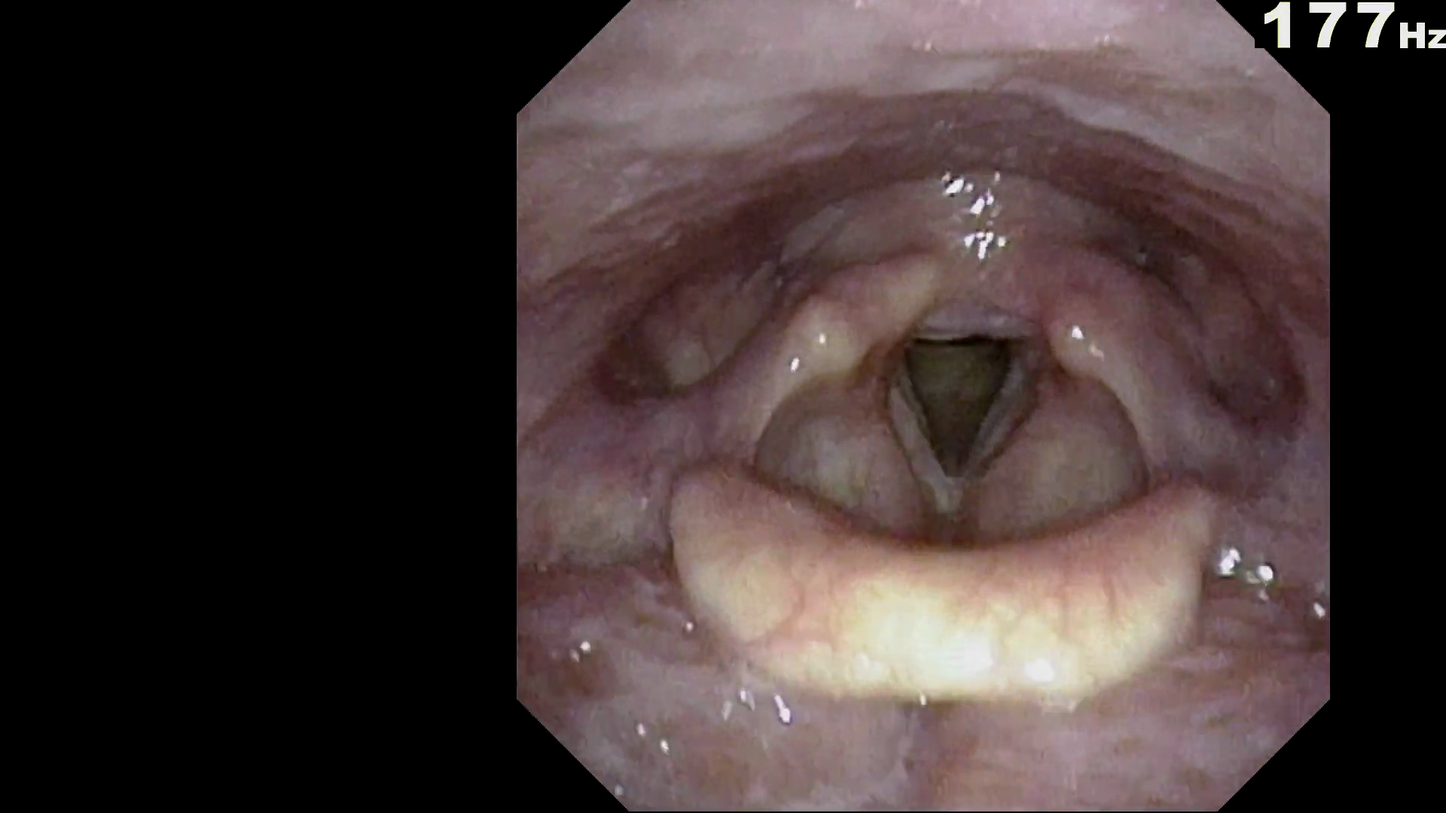epiglottis: (684, 448, 1195, 682)
trachea: (873, 312, 1031, 490)
